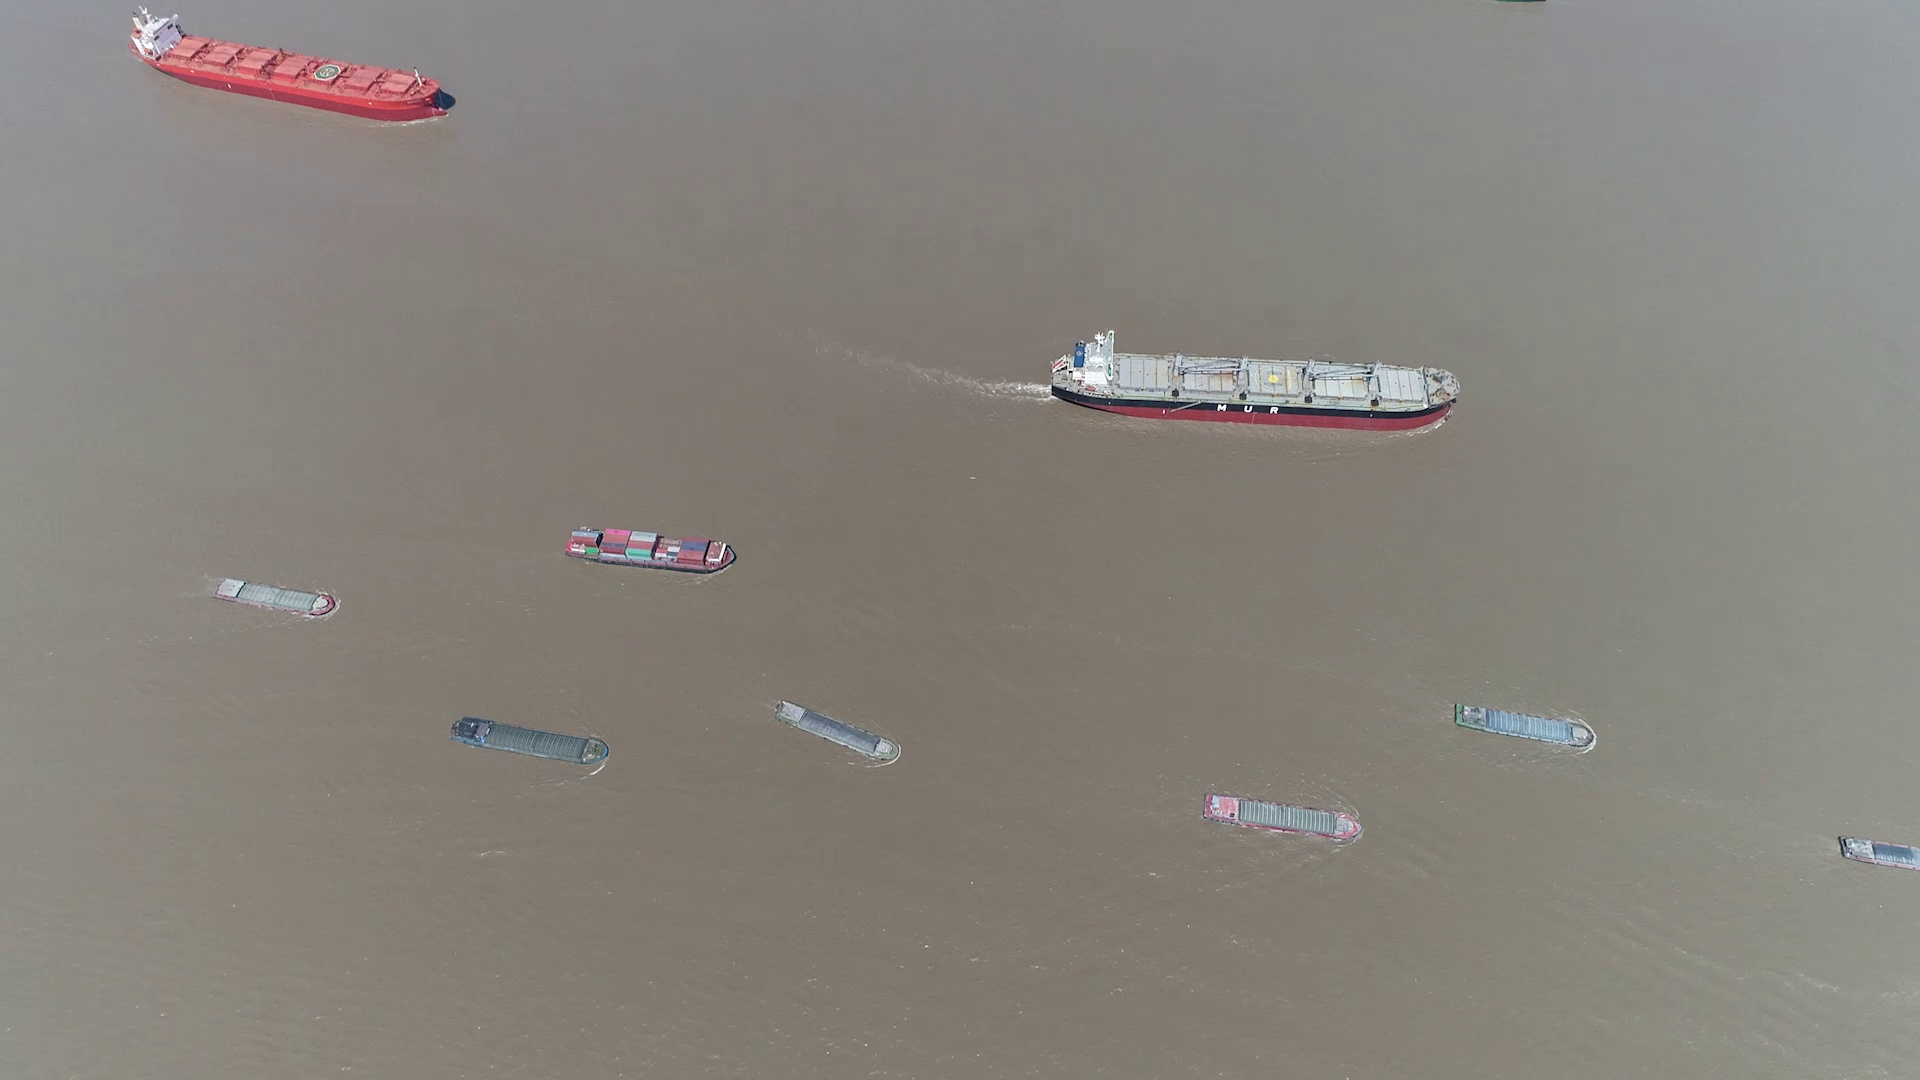ship: (1050, 338, 1458, 433), (128, 7, 452, 120), (564, 526, 740, 574), (775, 700, 899, 765), (454, 716, 612, 765), (1205, 793, 1365, 839), (1451, 702, 1600, 749), (211, 578, 340, 618), (1838, 836, 1919, 872)
